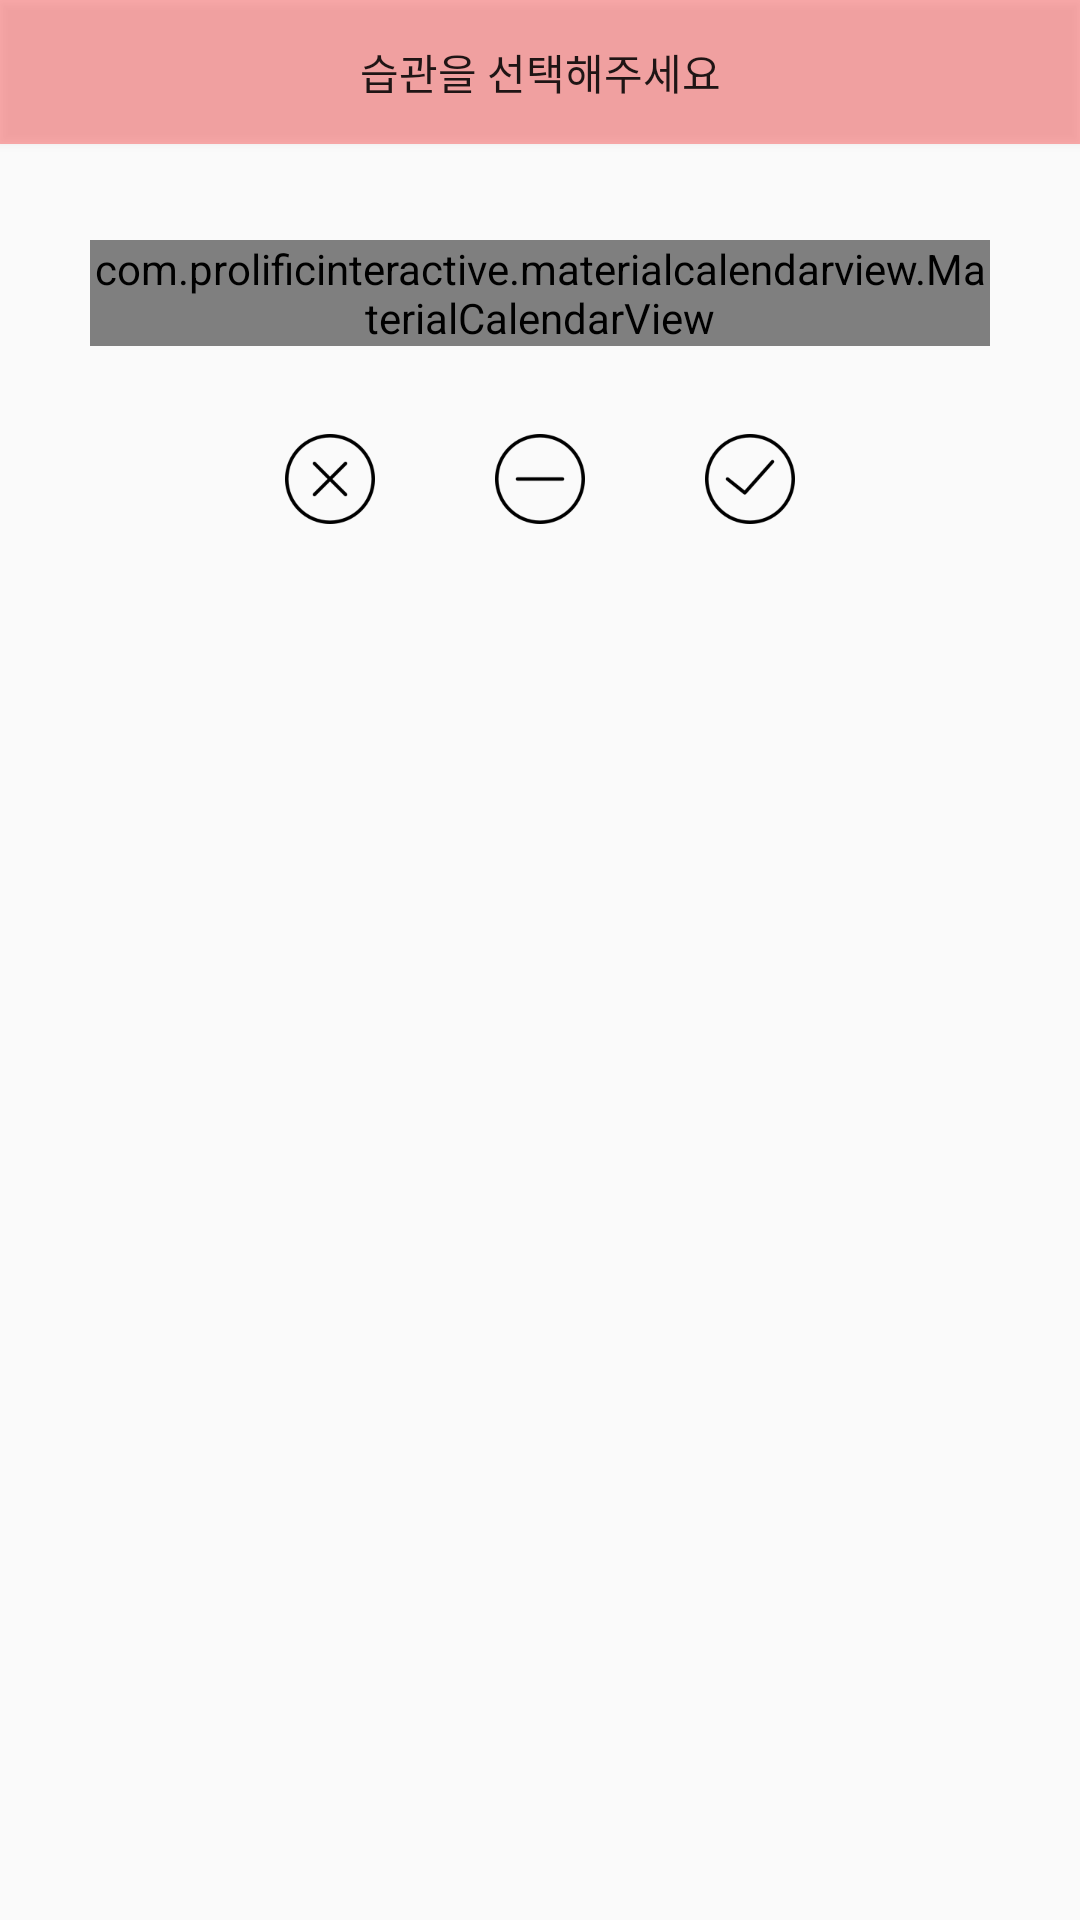

Screen size 1080×1920. Icon name, then its center in pixels as (x=x, y=y):
error: (x=330, y=479)
minus: (x=540, y=479)
success: (x=750, y=479)
